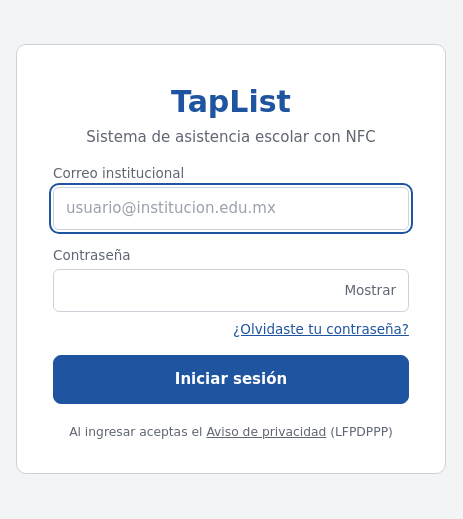
Test case: P1 · Inicio de sesión › credenciales incorrectas (401): muestra el mensaje genérico de la API, se queda en el login y borra la contraseña
Type "rosa@academicos.udg.mx" into the field labelled "Correo institucional".
click(231, 208); type("rosa@academicos.udg.mx")  # box [53,187,409,230]
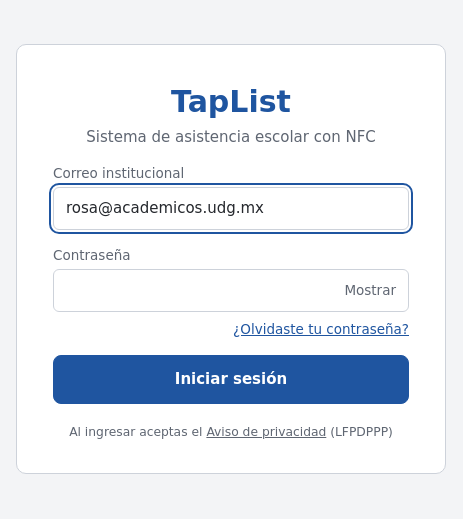
Type "incorrecta" into the password field labelled "Contraseña".
click(231, 290); type("incorrecta")  # box [53,269,409,312]
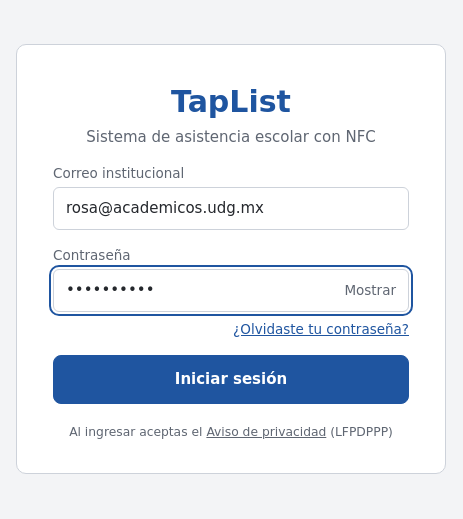
Click the button "Iniciar sesión".
click(231, 379)  # box [53,355,409,404]
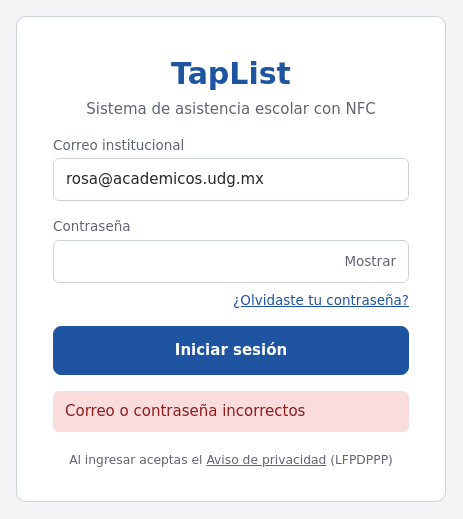
Expected: the button "Iniciar sesión" is enabled, [53,326,409,375]
Now the message reads "Correo o contraseña incorrectos", box [65,402,305,420]
Now the password field labelled "Contraseña" is empty, box [53,240,409,283]
